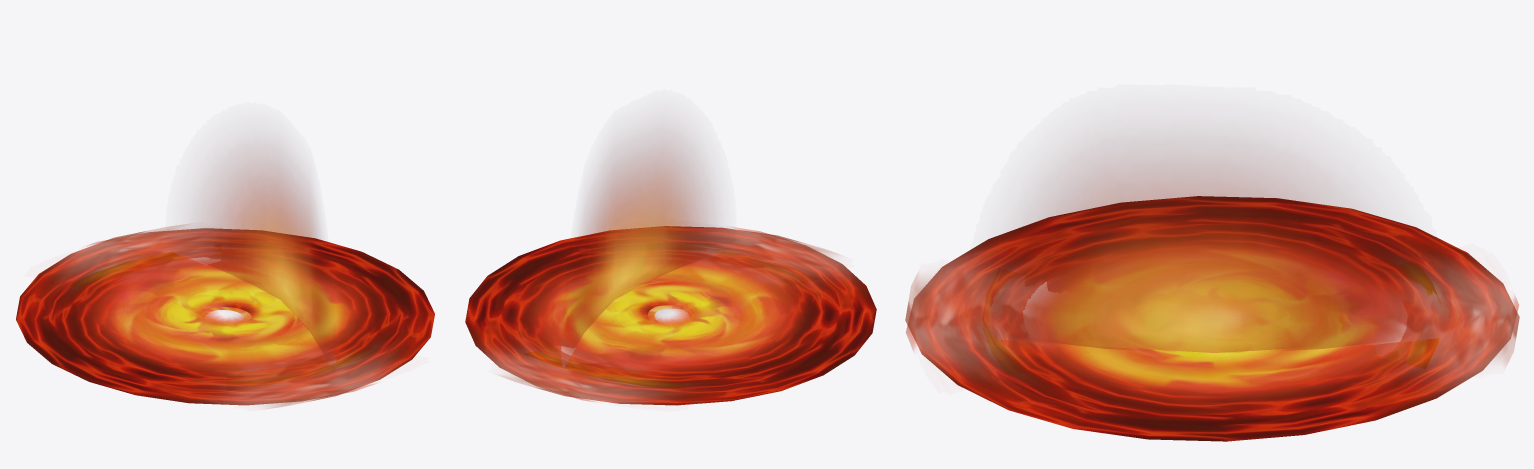
3 views of the same model, side by side, from view 1: azimuth 30°, elevation 25°; view 2: azimuth 150°, elevation 25°; view 3: azimuth 270°, elevation 25° (orthographic). The views are drawn at different scales.
Bounding box in the file's own units: 32.28 × 25.42 × 34.14.
6 materials, 6 textured.
